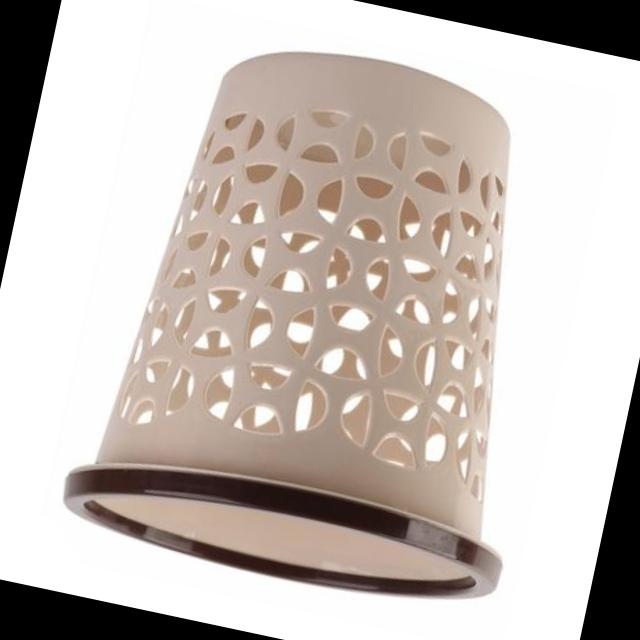dustbin: (47, 4, 604, 628)
